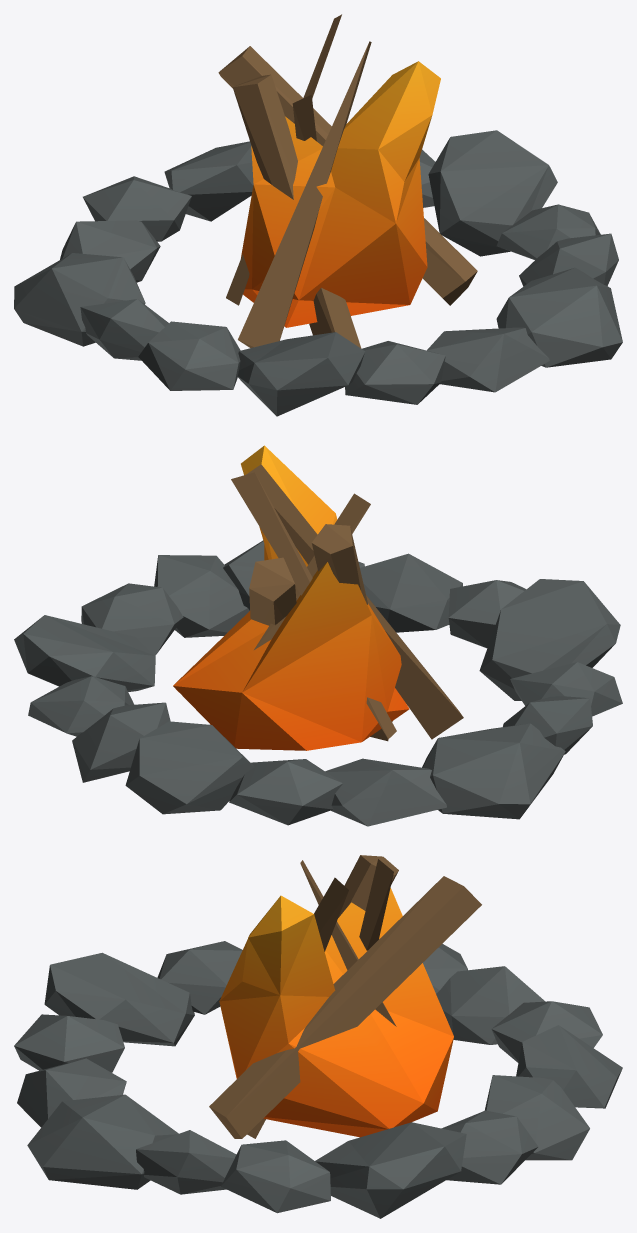
Rendered from Fire.fbx.
The picture shows the model from 3 angles, top to bottom: view 1: azimuth 30°, elevation 25°; view 2: azimuth 150°, elevation 25°; view 3: azimuth 270°, elevation 25°; orthographic projection. The views are drawn at different scales.
Visible parts, largest first — view 1: Fire; view 2: Fire; view 3: Fire.
Part boxes in pixels (box(x1,y1,x2,y2)): Fire: box(14, 14, 622, 416); Fire: box(14, 445, 622, 826); Fire: box(14, 855, 622, 1218).
Size of the model in its own units: 1.47 by 0.7902 by 1.44.
